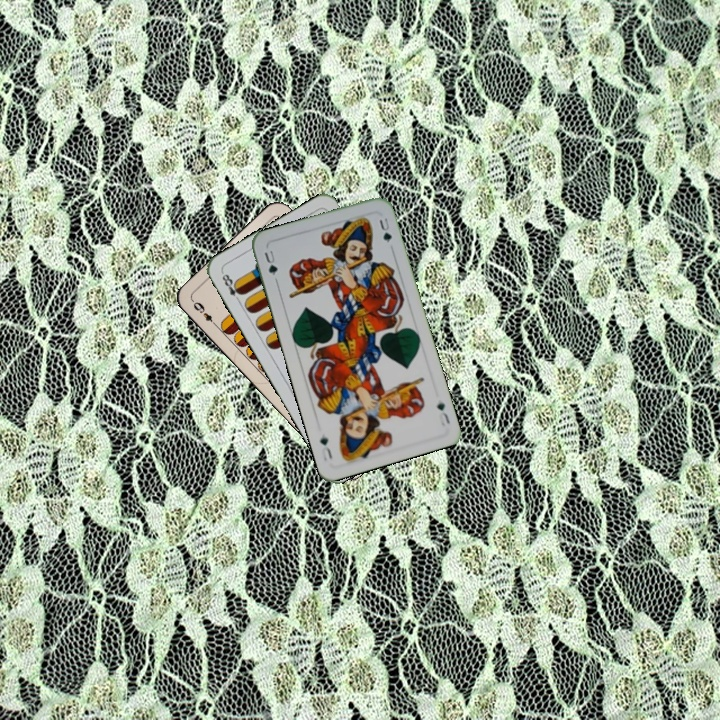E8: (218, 268, 245, 306)
E9: (188, 297, 220, 330)
GU: (260, 246, 280, 278), (433, 398, 452, 429)
